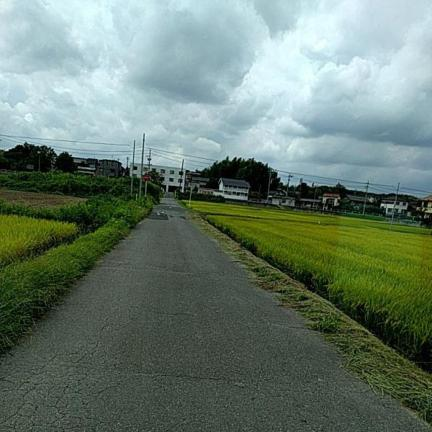Road: (0, 199, 427, 431)
